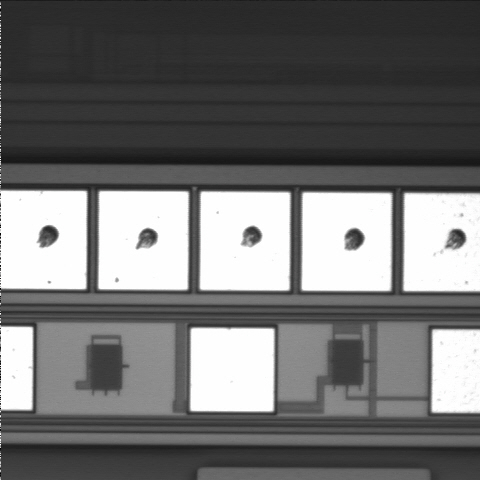pad: (98, 191, 188, 290), (200, 192, 290, 290), (302, 193, 392, 291), (190, 328, 274, 411)
